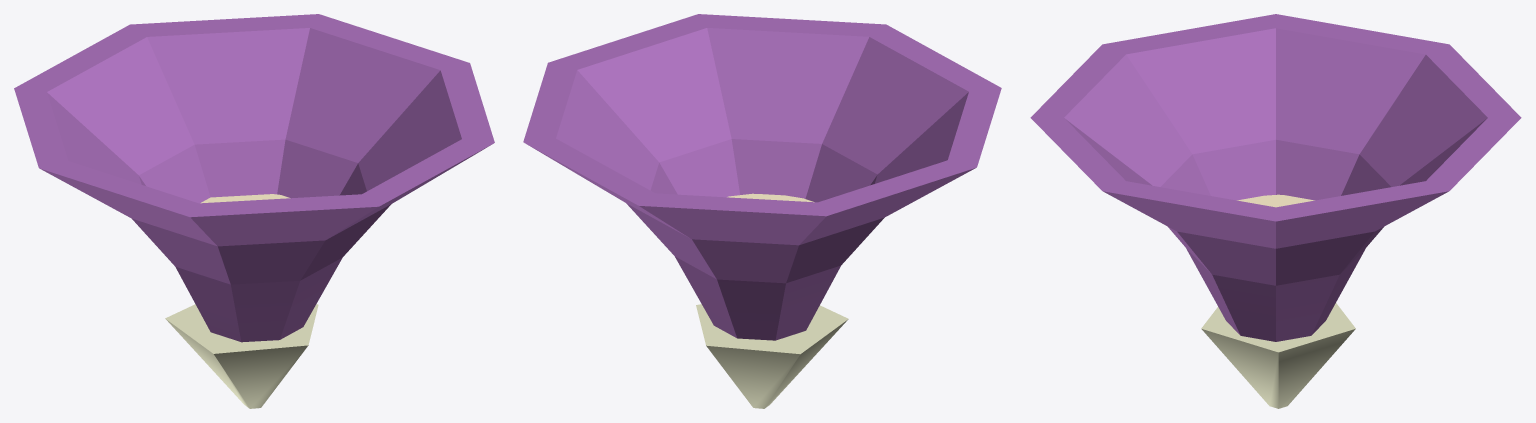
Rendered from Trap_flower.fbx.
3 renders of one model, left to right at view 1: azimuth 30°, elevation 25°; view 2: azimuth 150°, elevation 25°; view 3: azimuth 270°, elevation 25°, orthographic.
Visible parts, largest first — view 1: pPipe16, pPipe15, pCylinder2; view 2: pPipe16, pPipe15; view 3: pPipe16, pPipe15, pCylinder2.
Part boxes in pixels (x1,y1,x2,y2): pPipe16: (14, 14, 494, 342); pPipe15: (165, 304, 318, 408); pCylinder2: (200, 194, 290, 203); pPipe16: (523, 14, 1001, 340); pPipe15: (696, 304, 848, 408); pPipe16: (1030, 14, 1521, 341); pPipe15: (1201, 303, 1355, 408); pCylinder2: (1237, 194, 1314, 207).
Bounding box in the file's own units: 7.14 × 4.6 × 7.14.
